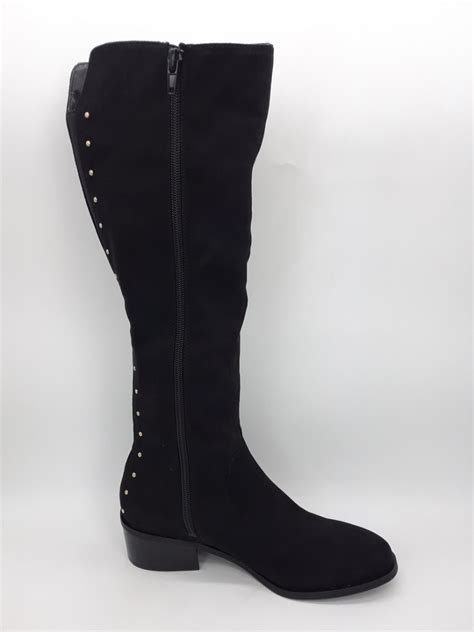gamuza: (67, 40, 397, 595)
